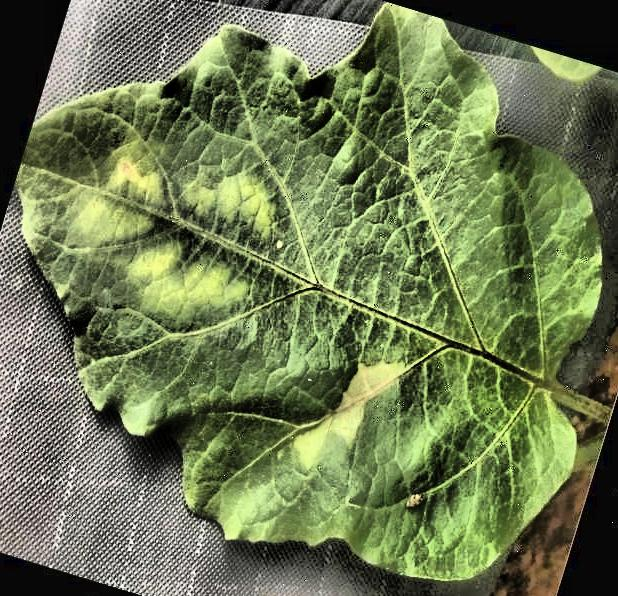Critical Stress: (0, 1, 618, 596)
